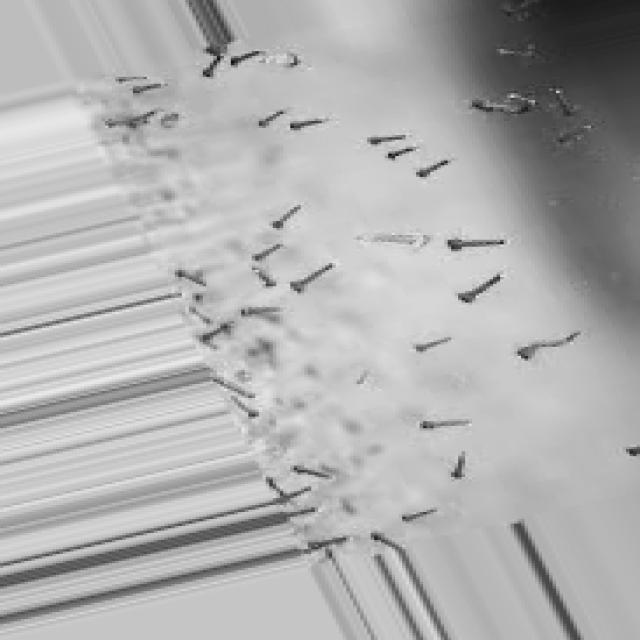larvas: (516, 332, 584, 361), (288, 263, 336, 292), (472, 95, 540, 114), (459, 272, 501, 302), (105, 109, 156, 129), (557, 126, 602, 146), (370, 529, 402, 551), (411, 160, 449, 178), (499, 46, 547, 60), (273, 204, 298, 230), (417, 333, 453, 351), (206, 318, 238, 338), (217, 378, 253, 395), (278, 486, 314, 503), (447, 239, 508, 249), (228, 395, 257, 416), (554, 90, 579, 114), (296, 465, 332, 481), (253, 108, 284, 126), (385, 144, 416, 161), (450, 452, 471, 477), (202, 51, 221, 78), (422, 420, 473, 430), (254, 244, 281, 262), (240, 305, 284, 316), (504, 0, 534, 16), (290, 116, 324, 130), (174, 269, 203, 285), (401, 508, 434, 522), (316, 534, 350, 547), (231, 50, 259, 65), (130, 84, 168, 95), (253, 270, 276, 288), (188, 308, 211, 325), (366, 134, 404, 144), (286, 50, 306, 68), (268, 478, 287, 495), (160, 112, 176, 128), (288, 508, 316, 516), (193, 338, 215, 346), (118, 77, 152, 82)
